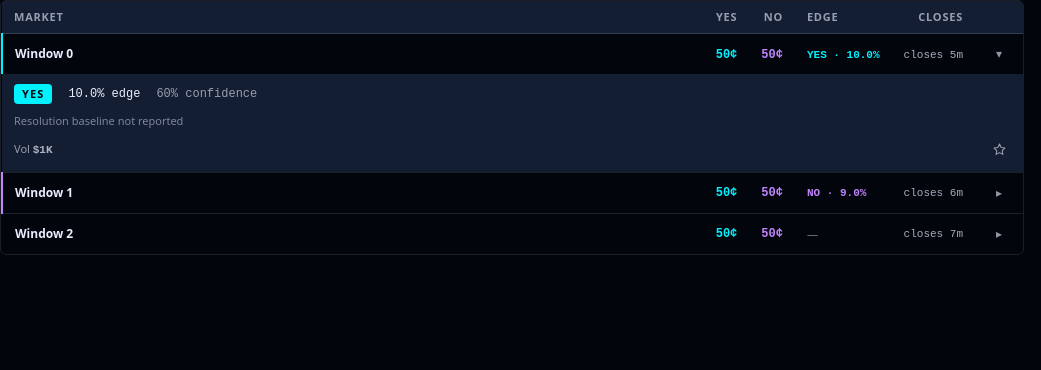
Scenario: EngineLedger default expansion › a collapsed edge-bearing row can be opened by hand, and the default one closed
The width and height of the screenshot is (1041, 370).
Click the button "▸" in the row of "Window 1" at (999, 193), box [987,181,1011,205]
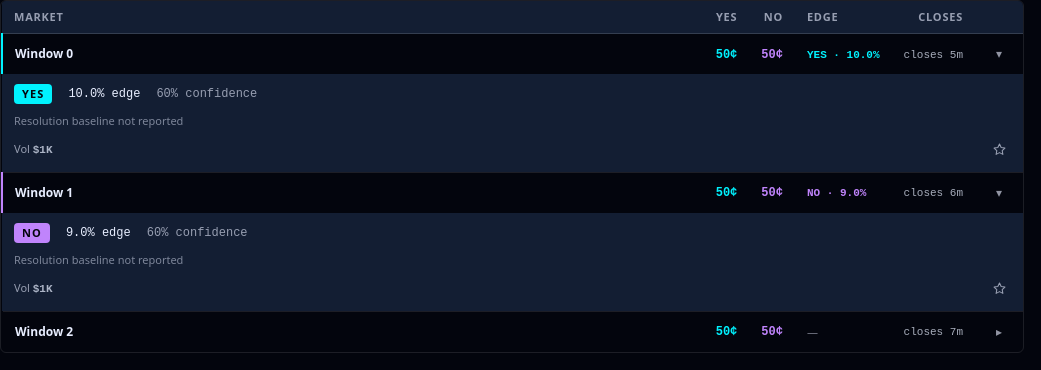
Result: the button "▾" in the row of "Window 1" is expanded at [987,181,1011,205]
Click the button "▾" in the row of "Window 0" at (999, 54), box [987,42,1011,66]
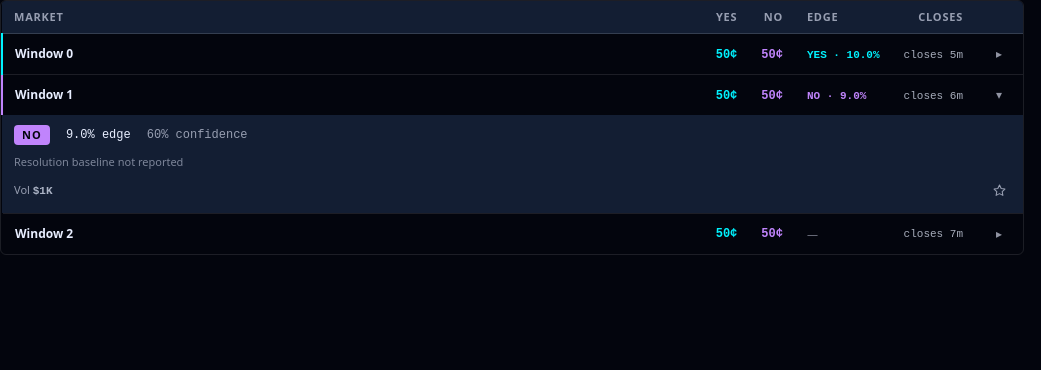
Result: the button "▸" in the row of "Window 0" is collapsed at [987,42,1011,66]
